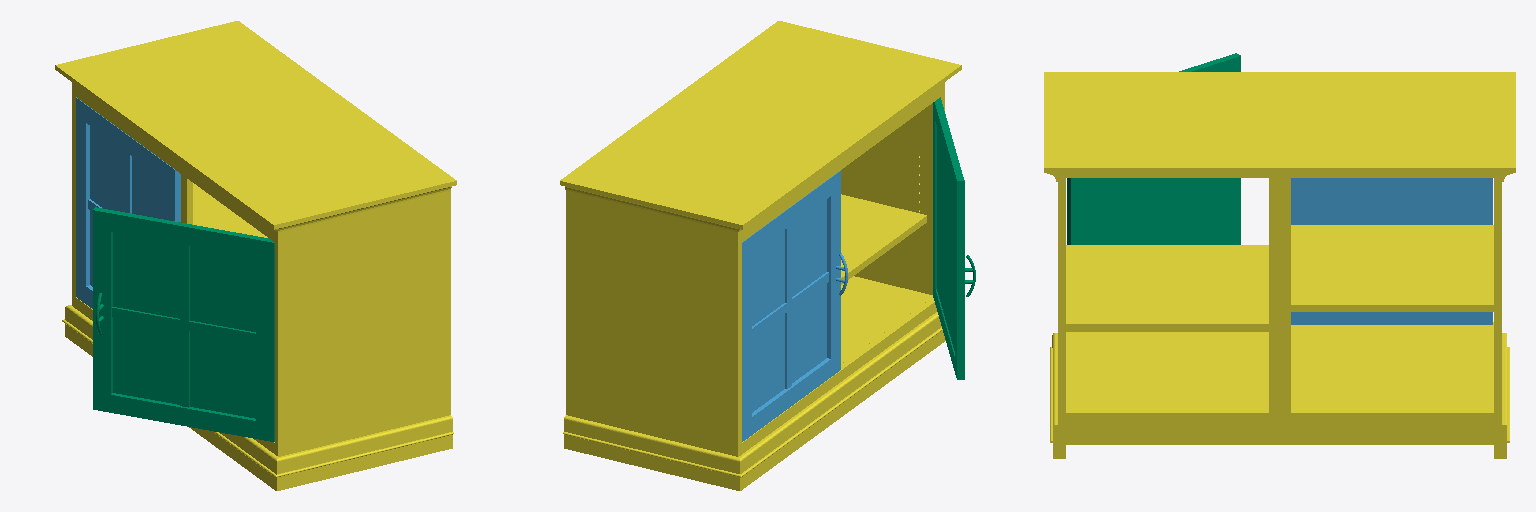
URDF robot description (partnet_98bc840471b4fd568e6da51641e48238):
<?xml version="1.0" ?>
<robot name="partnet_98bc840471b4fd568e6da51641e48238">
	<link name="base"/>
	<link name="link_0">
		<visual name="cabinet_door_surface-23">
			<origin xyz="0.6859974905547332 0.408064 -0.23868986657073282"/>
			<geometry>
				<mesh filename="package://objects_description/table/textured_objs/original-48.obj"/>
			</geometry>
		</visual>
		<visual name="handle-24">
			<origin xyz="0.6859974905547332 0.408064 -0.23868986657073282"/>
			<geometry>
				<mesh filename="package://objects_description/table/textured_objs/original-49.obj"/>
			</geometry>
		</visual>
		<visual name="glass-25">
			<origin xyz="0.6859974905547332 0.408064 -0.23868986657073282"/>
			<geometry>
				<mesh filename="package://objects_description/table/textured_objs/original-47.obj"/>
			</geometry>
		</visual>
		<collision>
			<origin xyz="0.6859974905547332 0.408064 -0.23868986657073282"/>
			<geometry>
				<mesh filename="package://objects_description/table/textured_objs/original-48.obj"/>
			</geometry>
		</collision>
		<collision>
			<origin xyz="0.6859974905547332 0.408064 -0.23868986657073282"/>
			<geometry>
				<mesh filename="package://objects_description/table/textured_objs/original-49.obj"/>
			</geometry>
		</collision>
		<collision>
			<origin xyz="0.6859974905547332 0.408064 -0.23868986657073282"/>
			<geometry>
				<mesh filename="package://objects_description/table/textured_objs/original-47.obj"/>
			</geometry>
		</collision>
	</link>
	<joint name="joint_0" type="revolute">
		<origin xyz="-0.6859974905547332 -0.408064 0.23868986657073282"/>
		<axis xyz="0 -1 0"/>
		<child link="link_0"/>
		<parent link="link_2"/>
		<limit lower="-0.0" upper="1.5707963267948966"/>
	</joint>
	<link name="link_1">
		<visual name="cabinet_door_surface-20">
			<origin xyz="-0.7087116182003554 0.37925599999999937 -0.23642974824319862"/>
			<geometry>
				<mesh filename="package://objects_description/table/textured_objs/original-53.obj"/>
			</geometry>
		</visual>
		<visual name="handle-21">
			<origin xyz="-0.7087116182003554 0.37925599999999937 -0.23642974824319862"/>
			<geometry>
				<mesh filename="package://objects_description/table/textured_objs/original-54.obj"/>
			</geometry>
		</visual>
		<visual name="glass-22">
			<origin xyz="-0.7087116182003554 0.37925599999999937 -0.23642974824319862"/>
			<geometry>
				<mesh filename="package://objects_description/table/textured_objs/original-52.obj"/>
			</geometry>
		</visual>
		<collision>
			<origin xyz="-0.7087116182003554 0.37925599999999937 -0.23642974824319862"/>
			<geometry>
				<mesh filename="package://objects_description/table/textured_objs/original-53.obj"/>
			</geometry>
		</collision>
		<collision>
			<origin xyz="-0.7087116182003554 0.37925599999999937 -0.23642974824319862"/>
			<geometry>
				<mesh filename="package://objects_description/table/textured_objs/original-54.obj"/>
			</geometry>
		</collision>
		<collision>
			<origin xyz="-0.7087116182003554 0.37925599999999937 -0.23642974824319862"/>
			<geometry>
				<mesh filename="package://objects_description/table/textured_objs/original-52.obj"/>
			</geometry>
		</collision>
	</link>
	<joint name="joint_1" type="revolute">
		<origin xyz="0.7087116182003554 -0.37925599999999937 0.23642974824319862"/>
		<axis xyz="0 1 0"/>
		<child link="link_1"/>
		<parent link="link_2"/>
		<limit lower="-0.6471680866394971" upper="0.91106186954104"/>
	</joint>
	<link name="link_2">
		<visual name="board-27">
			<origin xyz="0 0 0"/>
			<geometry>
				<mesh filename="package://objects_description/table/textured_objs/original-17.obj"/>
			</geometry>
		</visual>
		<visual name="board-27">
			<origin xyz="0 0 0"/>
			<geometry>
				<mesh filename="package://objects_description/table/textured_objs/original-4.obj"/>
			</geometry>
		</visual>
		<visual name="bar-29">
			<origin xyz="0 0 0"/>
			<geometry>
				<mesh filename="package://objects_description/table/textured_objs/original-5.obj"/>
			</geometry>
		</visual>
		<visual name="bar-30">
			<origin xyz="0 0 0"/>
			<geometry>
				<mesh filename="package://objects_description/table/textured_objs/original-14.obj"/>
			</geometry>
		</visual>
		<visual name="bar-31">
			<origin xyz="0 0 0"/>
			<geometry>
				<mesh filename="package://objects_description/table/textured_objs/original-13.obj"/>
			</geometry>
		</visual>
		<visual name="shelf-6">
			<origin xyz="0 0 0"/>
			<geometry>
				<mesh filename="package://objects_description/table/textured_objs/original-42.obj"/>
			</geometry>
		</visual>
		<visual name="shelf-7">
			<origin xyz="0 0 0"/>
			<geometry>
				<mesh filename="package://objects_description/table/textured_objs/original-41.obj"/>
			</geometry>
		</visual>
		<visual name="vertical_side_panel-8">
			<origin xyz="0 0 0"/>
			<geometry>
				<mesh filename="package://objects_description/table/textured_objs/original-15.obj"/>
			</geometry>
		</visual>
		<visual name="vertical_side_panel-9">
			<origin xyz="0 0 0"/>
			<geometry>
				<mesh filename="package://objects_description/table/textured_objs/original-16.obj"/>
			</geometry>
		</visual>
		<visual name="base_side_panel-10">
			<origin xyz="0 0 0"/>
			<geometry>
				<mesh filename="package://objects_description/table/textured_objs/original-7.obj"/>
			</geometry>
		</visual>
		<visual name="base_side_panel-10">
			<origin xyz="0 0 0"/>
			<geometry>
				<mesh filename="package://objects_description/table/textured_objs/original-3.obj"/>
			</geometry>
		</visual>
		<visual name="base_side_panel-11">
			<origin xyz="0 0 0"/>
			<geometry>
				<mesh filename="package://objects_description/table/textured_objs/original-1.obj"/>
			</geometry>
		</visual>
		<visual name="base_side_panel-11">
			<origin xyz="0 0 0"/>
			<geometry>
				<mesh filename="package://objects_description/table/textured_objs/original-18.obj"/>
			</geometry>
		</visual>
		<visual name="base_side_panel-11">
			<origin xyz="0 0 0"/>
			<geometry>
				<mesh filename="package://objects_description/table/textured_objs/original-6.obj"/>
			</geometry>
		</visual>
		<visual name="base_side_panel-12">
			<origin xyz="0 0 0"/>
			<geometry>
				<mesh filename="package://objects_description/table/textured_objs/original-8.obj"/>
			</geometry>
		</visual>
		<visual name="base_side_panel-12">
			<origin xyz="0 0 0"/>
			<geometry>
				<mesh filename="package://objects_description/table/textured_objs/original-2.obj"/>
			</geometry>
		</visual>
		<visual name="base_side_panel-13">
			<origin xyz="0 0 0"/>
			<geometry>
				<mesh filename="package://objects_description/table/textured_objs/original-12.obj"/>
			</geometry>
		</visual>
		<visual name="bottom_panel-14">
			<origin xyz="0 0 0"/>
			<geometry>
				<mesh filename="package://objects_description/table/textured_objs/original-20.obj"/>
			</geometry>
		</visual>
		<visual name="tabletop_connector-15">
			<origin xyz="0 0 0"/>
			<geometry>
				<mesh filename="package://objects_description/table/textured_objs/original-19.obj"/>
			</geometry>
		</visual>
		<visual name="tabletop_connector-16">
			<origin xyz="0 0 0"/>
			<geometry>
				<mesh filename="package://objects_description/table/textured_objs/original-28.obj"/>
			</geometry>
		</visual>
		<visual name="tabletop_connector-17">
			<origin xyz="0 0 0"/>
			<geometry>
				<mesh filename="package://objects_description/table/textured_objs/original-22.obj"/>
			</geometry>
		</visual>
		<visual name="bar_stretcher-32">
			<origin xyz="0 0 0"/>
			<geometry>
				<mesh filename="package://objects_description/table/textured_objs/original-55.obj"/>
			</geometry>
		</visual>
		<visual name="bar_stretcher-33">
			<origin xyz="0 0 0"/>
			<geometry>
				<mesh filename="package://objects_description/table/textured_objs/original-10.obj"/>
			</geometry>
		</visual>
		<visual name="bar_stretcher-34">
			<origin xyz="0 0 0"/>
			<geometry>
				<mesh filename="package://objects_description/table/textured_objs/original-9.obj"/>
			</geometry>
		</visual>
		<visual name="bar_stretcher-35">
			<origin xyz="0 0 0"/>
			<geometry>
				<mesh filename="package://objects_description/table/textured_objs/original-44.obj"/>
			</geometry>
		</visual>
		<visual name="bar_stretcher-36">
			<origin xyz="0 0 0"/>
			<geometry>
				<mesh filename="package://objects_description/table/textured_objs/original-43.obj"/>
			</geometry>
		</visual>
		<visual name="bar_stretcher-37">
			<origin xyz="0 0 0"/>
			<geometry>
				<mesh filename="package://objects_description/table/textured_objs/original-11.obj"/>
			</geometry>
		</visual>
		<collision>
			<origin xyz="0 0 0"/>
			<geometry>
				<mesh filename="package://objects_description/table/textured_objs/original-17.obj"/>
			</geometry>
		</collision>
		<collision>
			<origin xyz="0 0 0"/>
			<geometry>
				<mesh filename="package://objects_description/table/textured_objs/original-4.obj"/>
			</geometry>
		</collision>
		<collision>
			<origin xyz="0 0 0"/>
			<geometry>
				<mesh filename="package://objects_description/table/textured_objs/original-5.obj"/>
			</geometry>
		</collision>
		<collision>
			<origin xyz="0 0 0"/>
			<geometry>
				<mesh filename="package://objects_description/table/textured_objs/original-14.obj"/>
			</geometry>
		</collision>
		<collision>
			<origin xyz="0 0 0"/>
			<geometry>
				<mesh filename="package://objects_description/table/textured_objs/original-13.obj"/>
			</geometry>
		</collision>
		<collision>
			<origin xyz="0 0 0"/>
			<geometry>
				<mesh filename="package://objects_description/table/textured_objs/original-42.obj"/>
			</geometry>
		</collision>
		<collision>
			<origin xyz="0 0 0"/>
			<geometry>
				<mesh filename="package://objects_description/table/textured_objs/original-41.obj"/>
			</geometry>
		</collision>
		<collision>
			<origin xyz="0 0 0"/>
			<geometry>
				<mesh filename="package://objects_description/table/textured_objs/original-15.obj"/>
			</geometry>
		</collision>
		<collision>
			<origin xyz="0 0 0"/>
			<geometry>
				<mesh filename="package://objects_description/table/textured_objs/original-16.obj"/>
			</geometry>
		</collision>
		<collision>
			<origin xyz="0 0 0"/>
			<geometry>
				<mesh filename="package://objects_description/table/textured_objs/original-7.obj"/>
			</geometry>
		</collision>
		<collision>
			<origin xyz="0 0 0"/>
			<geometry>
				<mesh filename="package://objects_description/table/textured_objs/original-3.obj"/>
			</geometry>
		</collision>
		<collision>
			<origin xyz="0 0 0"/>
			<geometry>
				<mesh filename="package://objects_description/table/textured_objs/original-1.obj"/>
			</geometry>
		</collision>
		<collision>
			<origin xyz="0 0 0"/>
			<geometry>
				<mesh filename="package://objects_description/table/textured_objs/original-18.obj"/>
			</geometry>
		</collision>
		<collision>
			<origin xyz="0 0 0"/>
			<geometry>
				<mesh filename="package://objects_description/table/textured_objs/original-6.obj"/>
			</geometry>
		</collision>
		<collision>
			<origin xyz="0 0 0"/>
			<geometry>
				<mesh filename="package://objects_description/table/textured_objs/original-8.obj"/>
			</geometry>
		</collision>
		<collision>
			<origin xyz="0 0 0"/>
			<geometry>
				<mesh filename="package://objects_description/table/textured_objs/original-2.obj"/>
			</geometry>
		</collision>
		<collision>
			<origin xyz="0 0 0"/>
			<geometry>
				<mesh filename="package://objects_description/table/textured_objs/original-12.obj"/>
			</geometry>
		</collision>
		<collision>
			<origin xyz="0 0 0"/>
			<geometry>
				<mesh filename="package://objects_description/table/textured_objs/original-20.obj"/>
			</geometry>
		</collision>
		<collision>
			<origin xyz="0 0 0"/>
			<geometry>
				<mesh filename="package://objects_description/table/textured_objs/original-19.obj"/>
			</geometry>
		</collision>
		<collision>
			<origin xyz="0 0 0"/>
			<geometry>
				<mesh filename="package://objects_description/table/textured_objs/original-28.obj"/>
			</geometry>
		</collision>
		<collision>
			<origin xyz="0 0 0"/>
			<geometry>
				<mesh filename="package://objects_description/table/textured_objs/original-22.obj"/>
			</geometry>
		</collision>
		<collision>
			<origin xyz="0 0 0"/>
			<geometry>
				<mesh filename="package://objects_description/table/textured_objs/original-55.obj"/>
			</geometry>
		</collision>
		<collision>
			<origin xyz="0 0 0"/>
			<geometry>
				<mesh filename="package://objects_description/table/textured_objs/original-10.obj"/>
			</geometry>
		</collision>
		<collision>
			<origin xyz="0 0 0"/>
			<geometry>
				<mesh filename="package://objects_description/table/textured_objs/original-9.obj"/>
			</geometry>
		</collision>
		<collision>
			<origin xyz="0 0 0"/>
			<geometry>
				<mesh filename="package://objects_description/table/textured_objs/original-44.obj"/>
			</geometry>
		</collision>
		<collision>
			<origin xyz="0 0 0"/>
			<geometry>
				<mesh filename="package://objects_description/table/textured_objs/original-43.obj"/>
			</geometry>
		</collision>
		<collision>
			<origin xyz="0 0 0"/>
			<geometry>
				<mesh filename="package://objects_description/table/textured_objs/original-11.obj"/>
			</geometry>
		</collision>
	</link>
	<joint name="joint_2" type="fixed">
		<origin rpy="1.570796326794897 0 -1.570796326794897" xyz="0 0 0"/>
		<child link="link_2"/>
		<parent link="base"/>
	</joint>
</robot>

--- Render facts (derived) ---
3 views of the same robot in one strip: view 1: azimuth 30°, elevation 25°; view 2: azimuth 150°, elevation 25°; view 3: azimuth 270°, elevation 25° (orthographic).
Model partnet_98bc840471b4fd568e6da51641e48238 with 4 links and 3 joints (2 revolute, 1 fixed), rooted at base, posed every joint at zero.
Visible links, largest first — view 1: link_2, link_1, link_0; view 2: link_2, link_0, link_1; view 3: link_2, link_1, link_0.
Boxes of the visible links, x1,y1,x2,y2 form: link_2: (55, 21, 456, 490); link_1: (93, 207, 274, 441); link_0: (76, 97, 180, 308); link_2: (560, 21, 961, 490); link_0: (742, 170, 847, 441); link_1: (933, 98, 975, 379); link_2: (1044, 72, 1515, 458); link_1: (1067, 53, 1240, 244); link_0: (1291, 178, 1492, 324).
Bounding box of the posed robot: 1.16 × 1.58 × 1.07 m (x, y, z).
Meshes: 33 distinct files referenced, 33 mesh visuals loaded (33 OBJ).